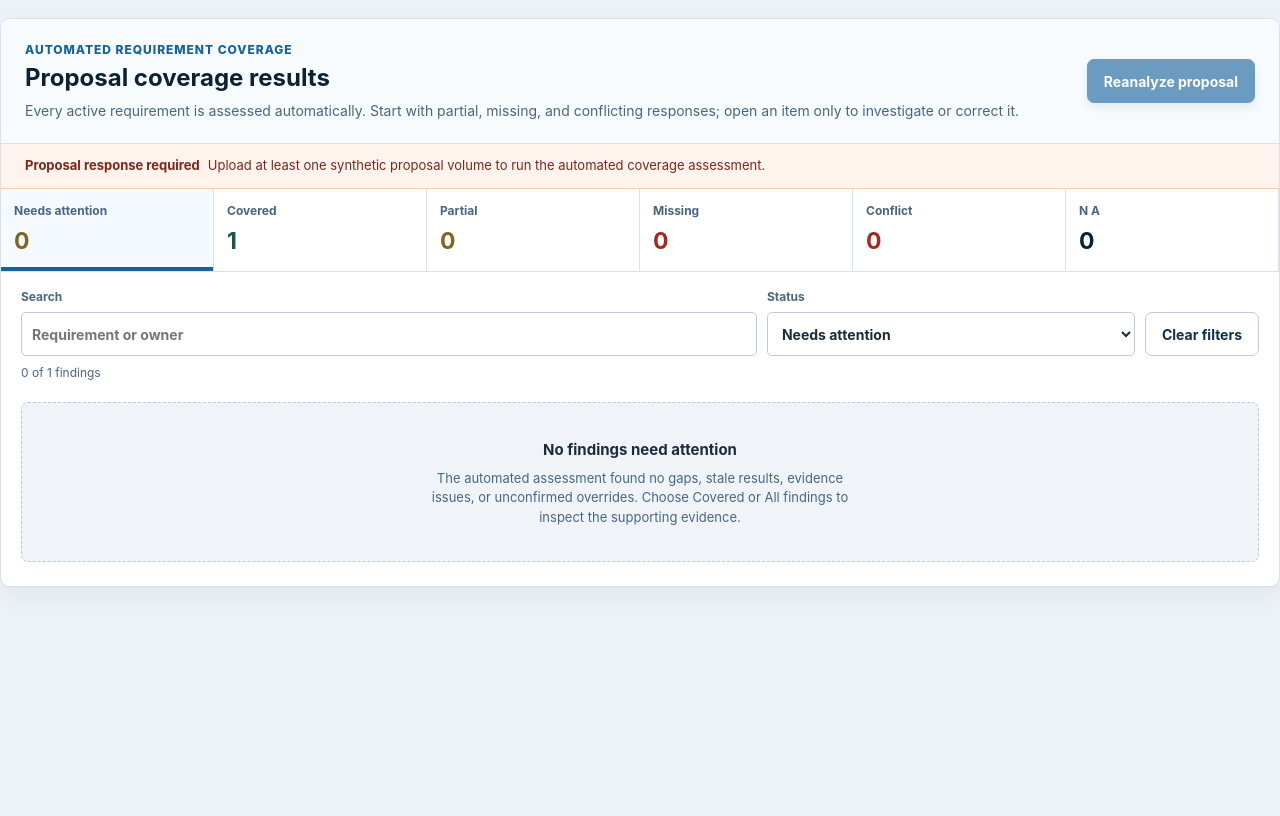
Test case: release integrity workflows › lets a reviewer remove mistaken manual evidence and reloads the stale finding
Click the button "Covered 1". click: (320, 230)
box: left=214, top=189, right=427, bottom=272
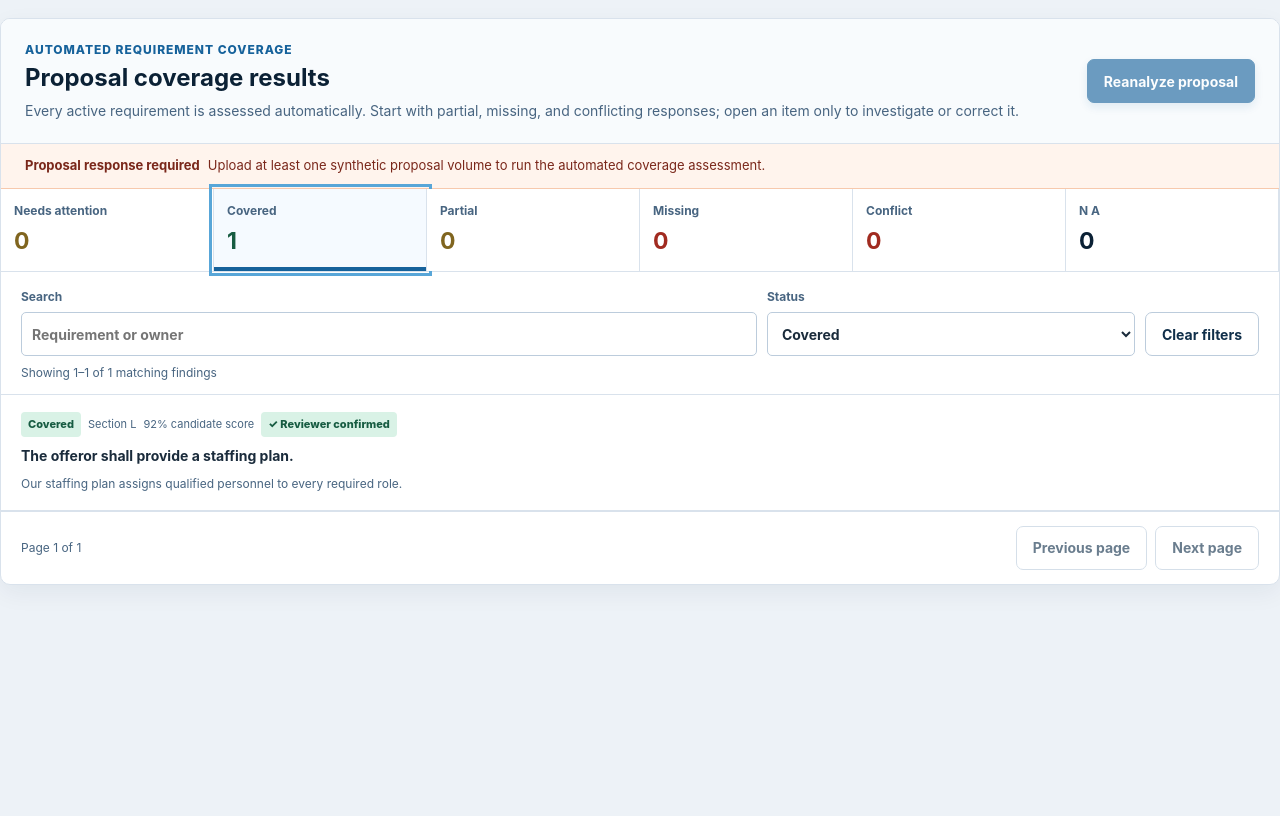
Click the button named "The offeror shall provide a staffing plan.". click: (51, 425)
box: left=1, top=396, right=1279, bottom=510
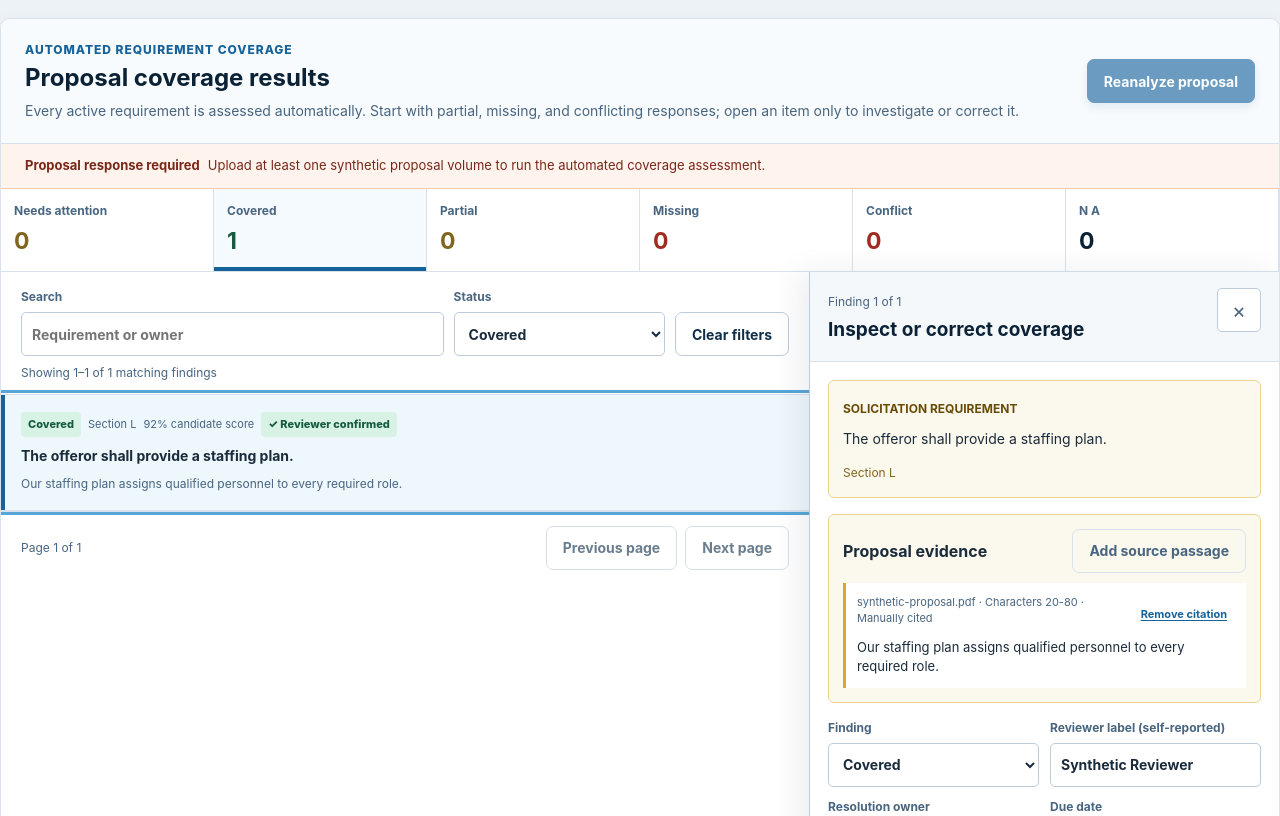
Click the button with aria-label "remove manual evidence". click: (1184, 615)
box: left=1133, top=598, right=1235, bottom=631
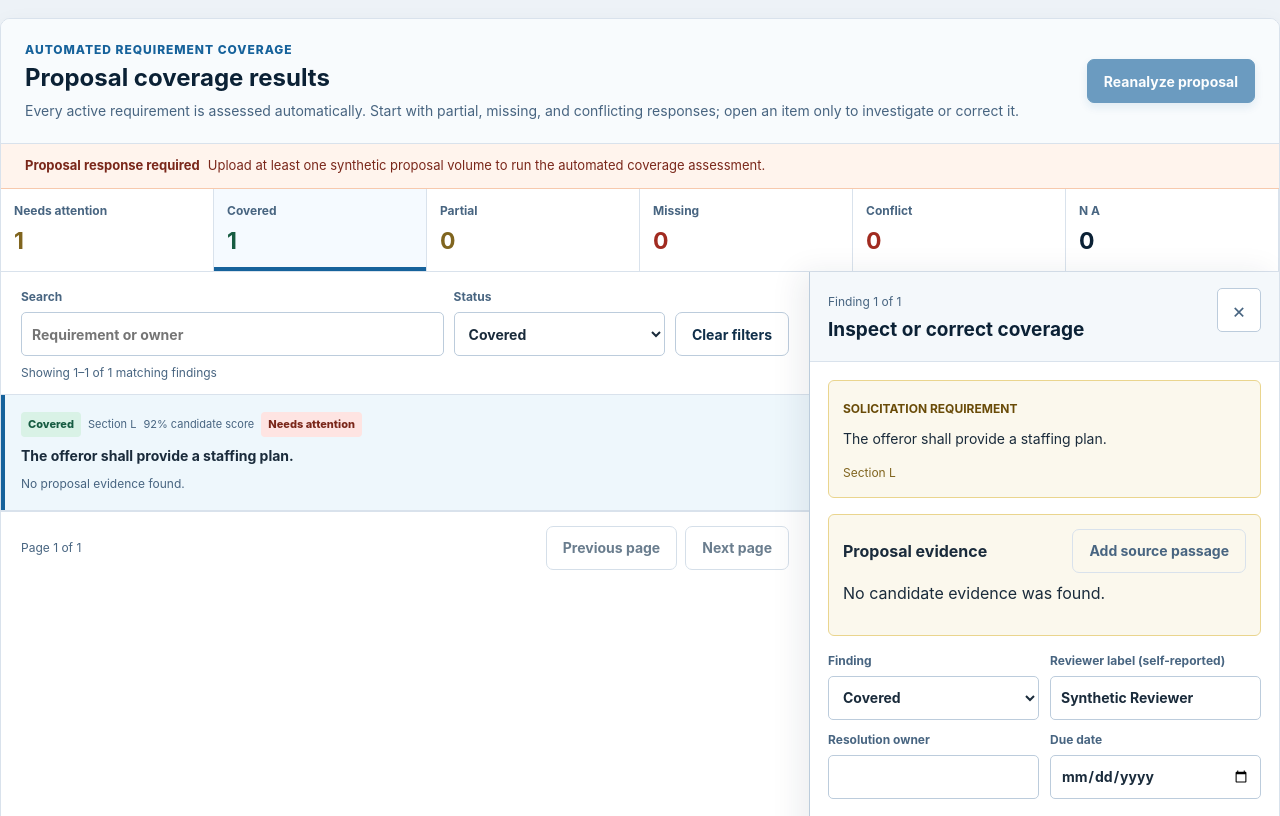
Expected: the text "No candidate evidence was found." is shown, left=843, top=583, right=1105, bottom=603
